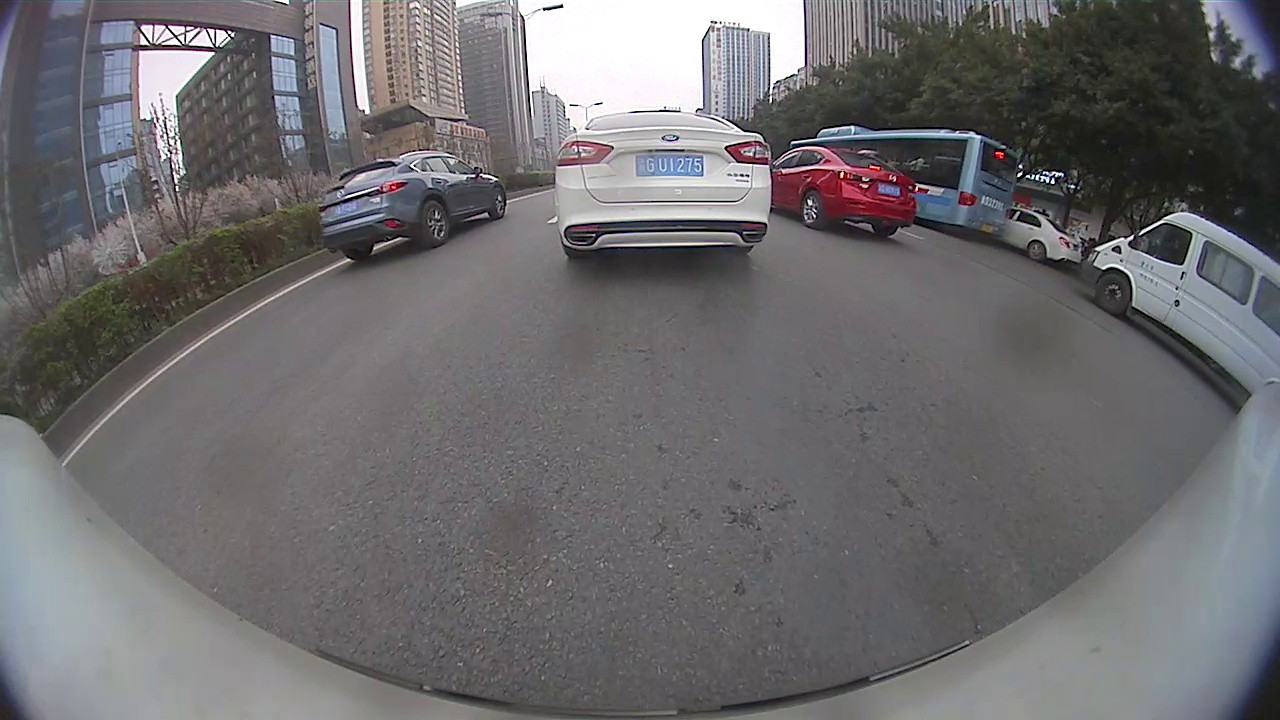bus: (792, 125, 1023, 239)
car: (1084, 209, 1278, 391), (553, 111, 773, 257), (317, 147, 507, 262), (773, 144, 918, 239), (1000, 209, 1086, 267)
front: (1097, 273, 1131, 315), (488, 183, 507, 219)
rear: (417, 200, 453, 249), (799, 187, 825, 228), (1027, 239, 1047, 264)
